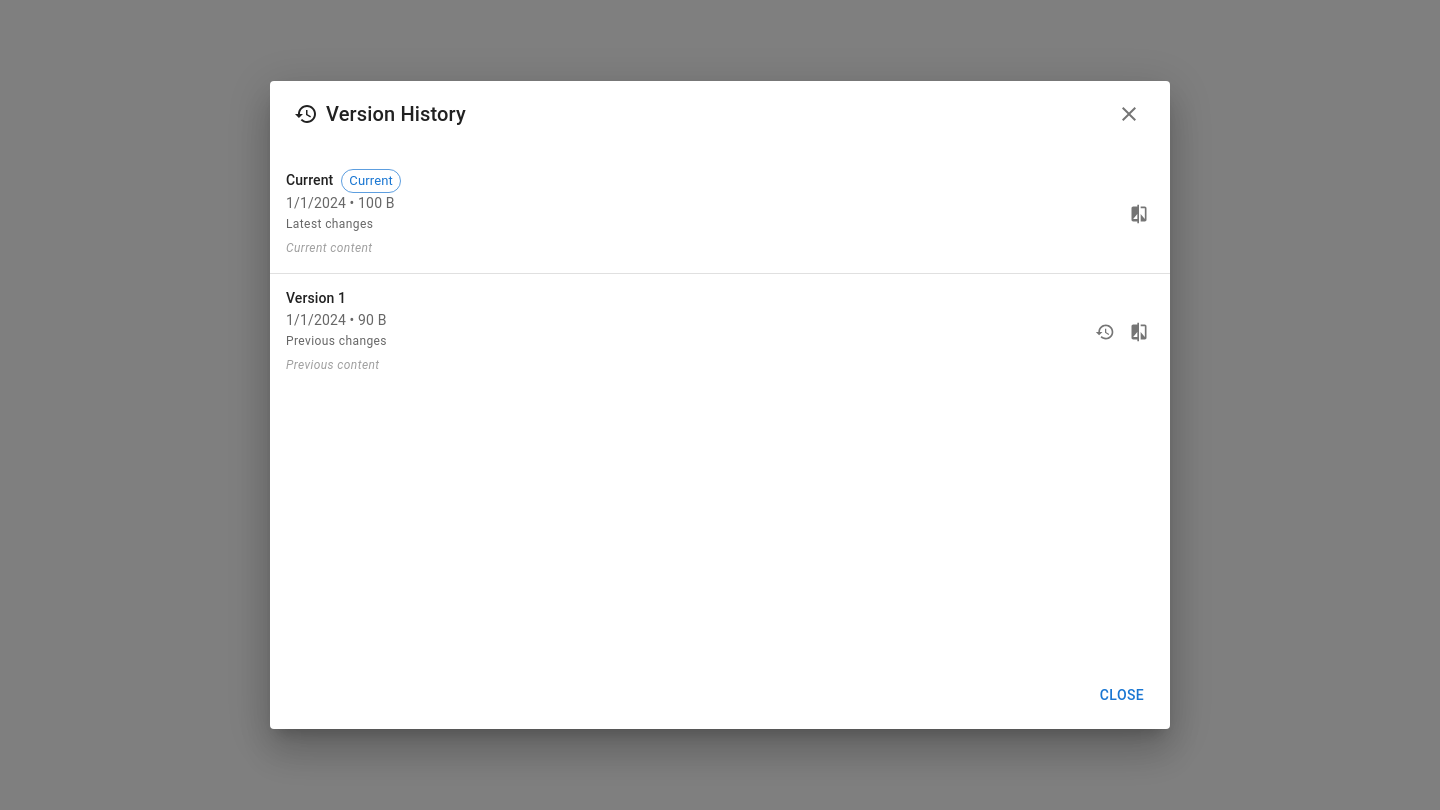
Test: VersionHistory › Version Restoration › should handle restore errors
This screenshot has width=1440, height=810.
Step 1. Click the button named "Restore this version" → (1105, 332), box [1090, 317, 1120, 347]
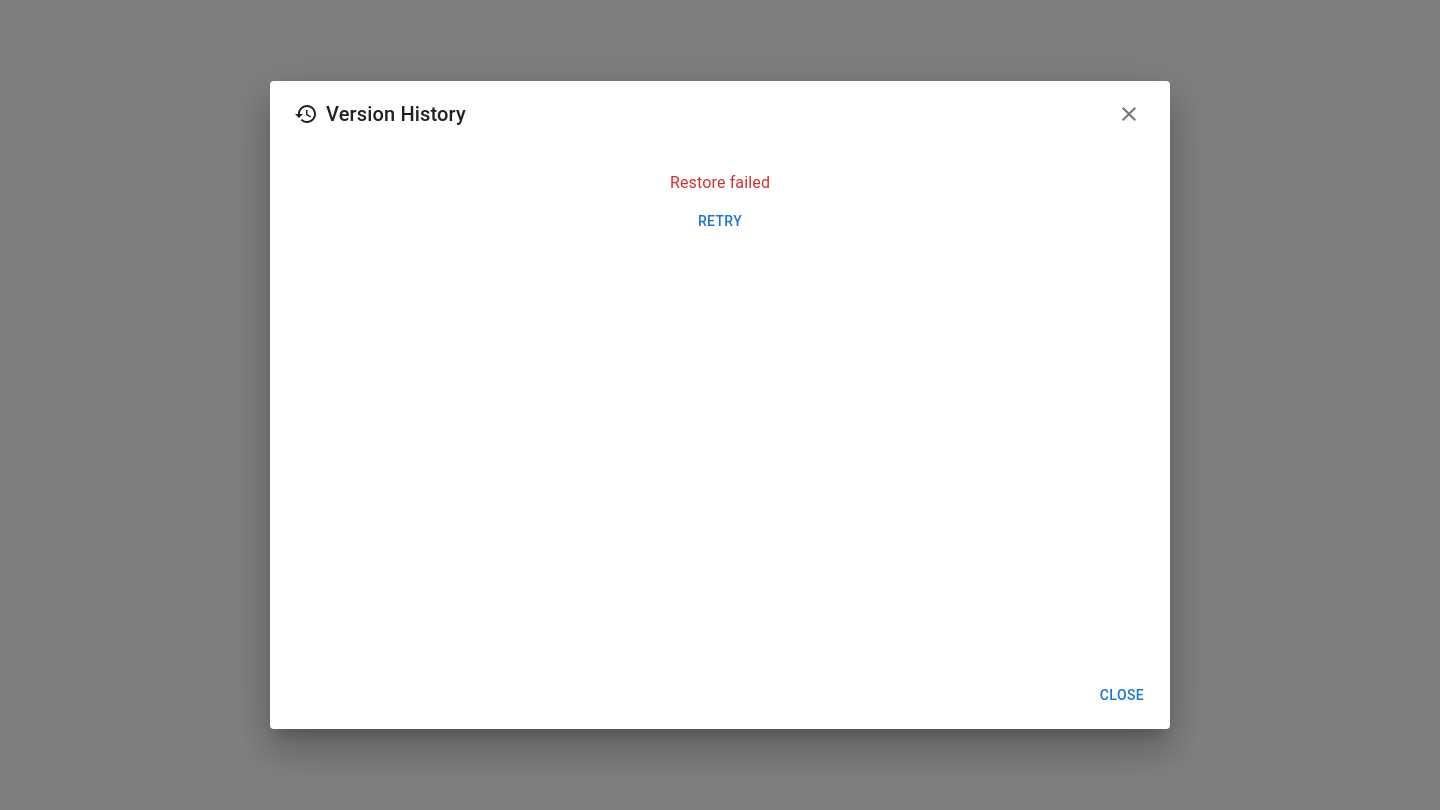
expect the text "Restore failed" is shown: met, box [670, 173, 770, 192]
